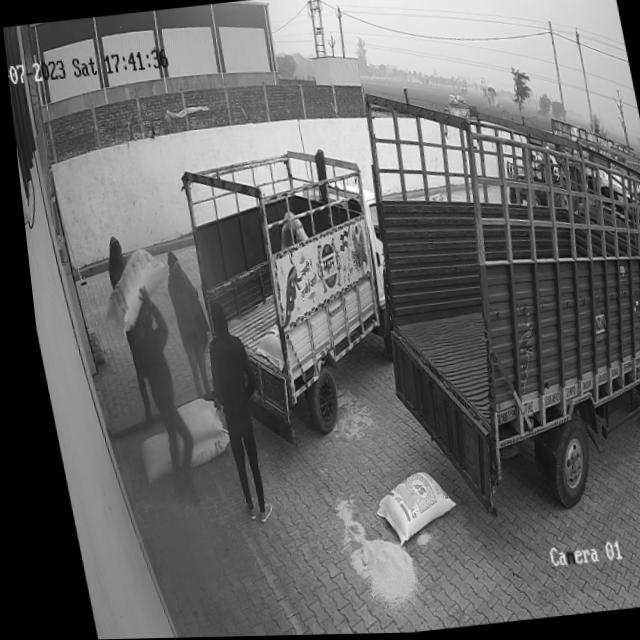sack: (356, 469, 449, 549), (87, 246, 167, 335), (162, 397, 216, 445), (127, 431, 164, 483), (176, 438, 220, 467)
